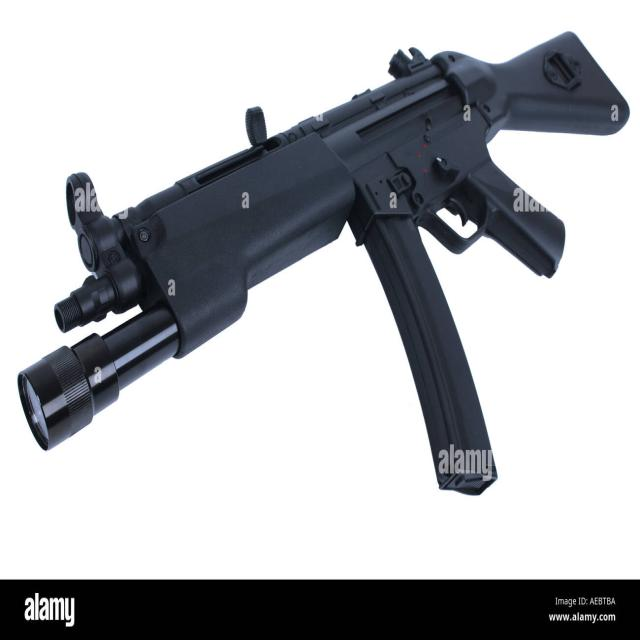SMG: (15, 31, 633, 498)
